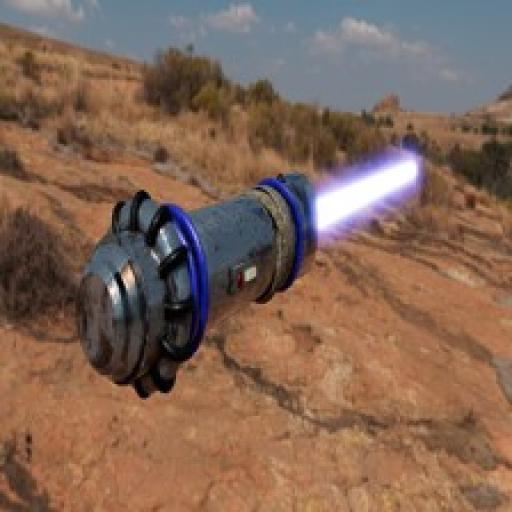lightsaber: (62, 157, 420, 403)
